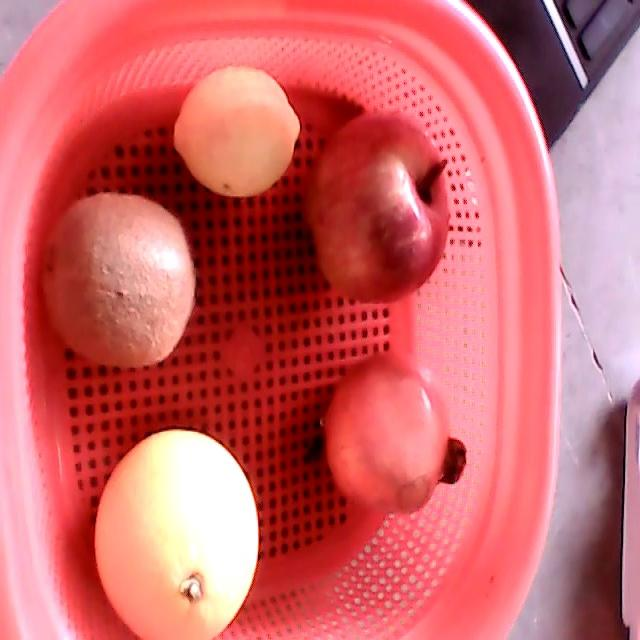apple: (302, 110, 452, 306)
kiwi: (39, 192, 197, 369)
lemon: (173, 66, 301, 199)
orange: (95, 427, 259, 639)
pomegranate: (321, 351, 467, 516)
